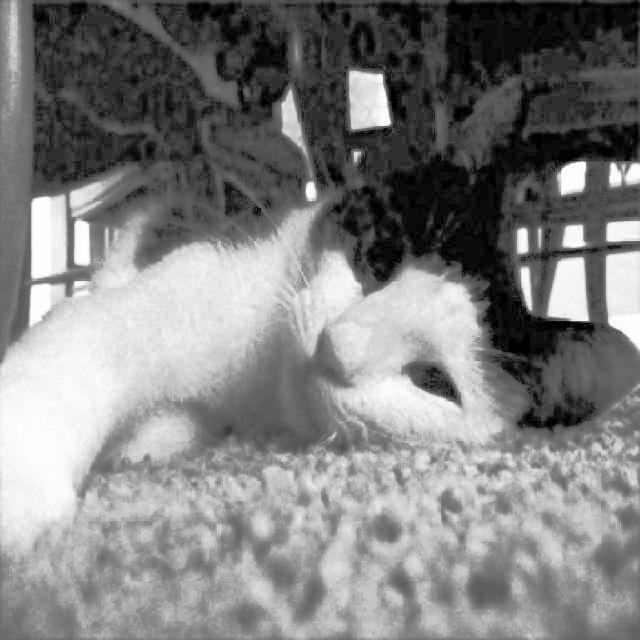Cat: (0, 67, 640, 566)
